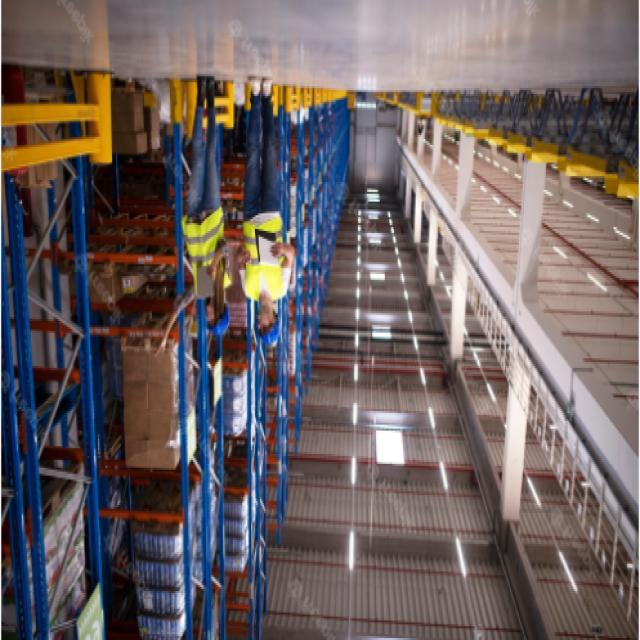boots: (190, 72, 222, 114)
helmet: (205, 293, 231, 337), (255, 303, 281, 345)
vest: (180, 202, 234, 303), (243, 211, 289, 307)
